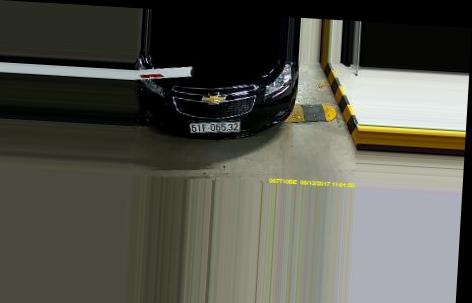License_Plate: (188, 118, 244, 134)
